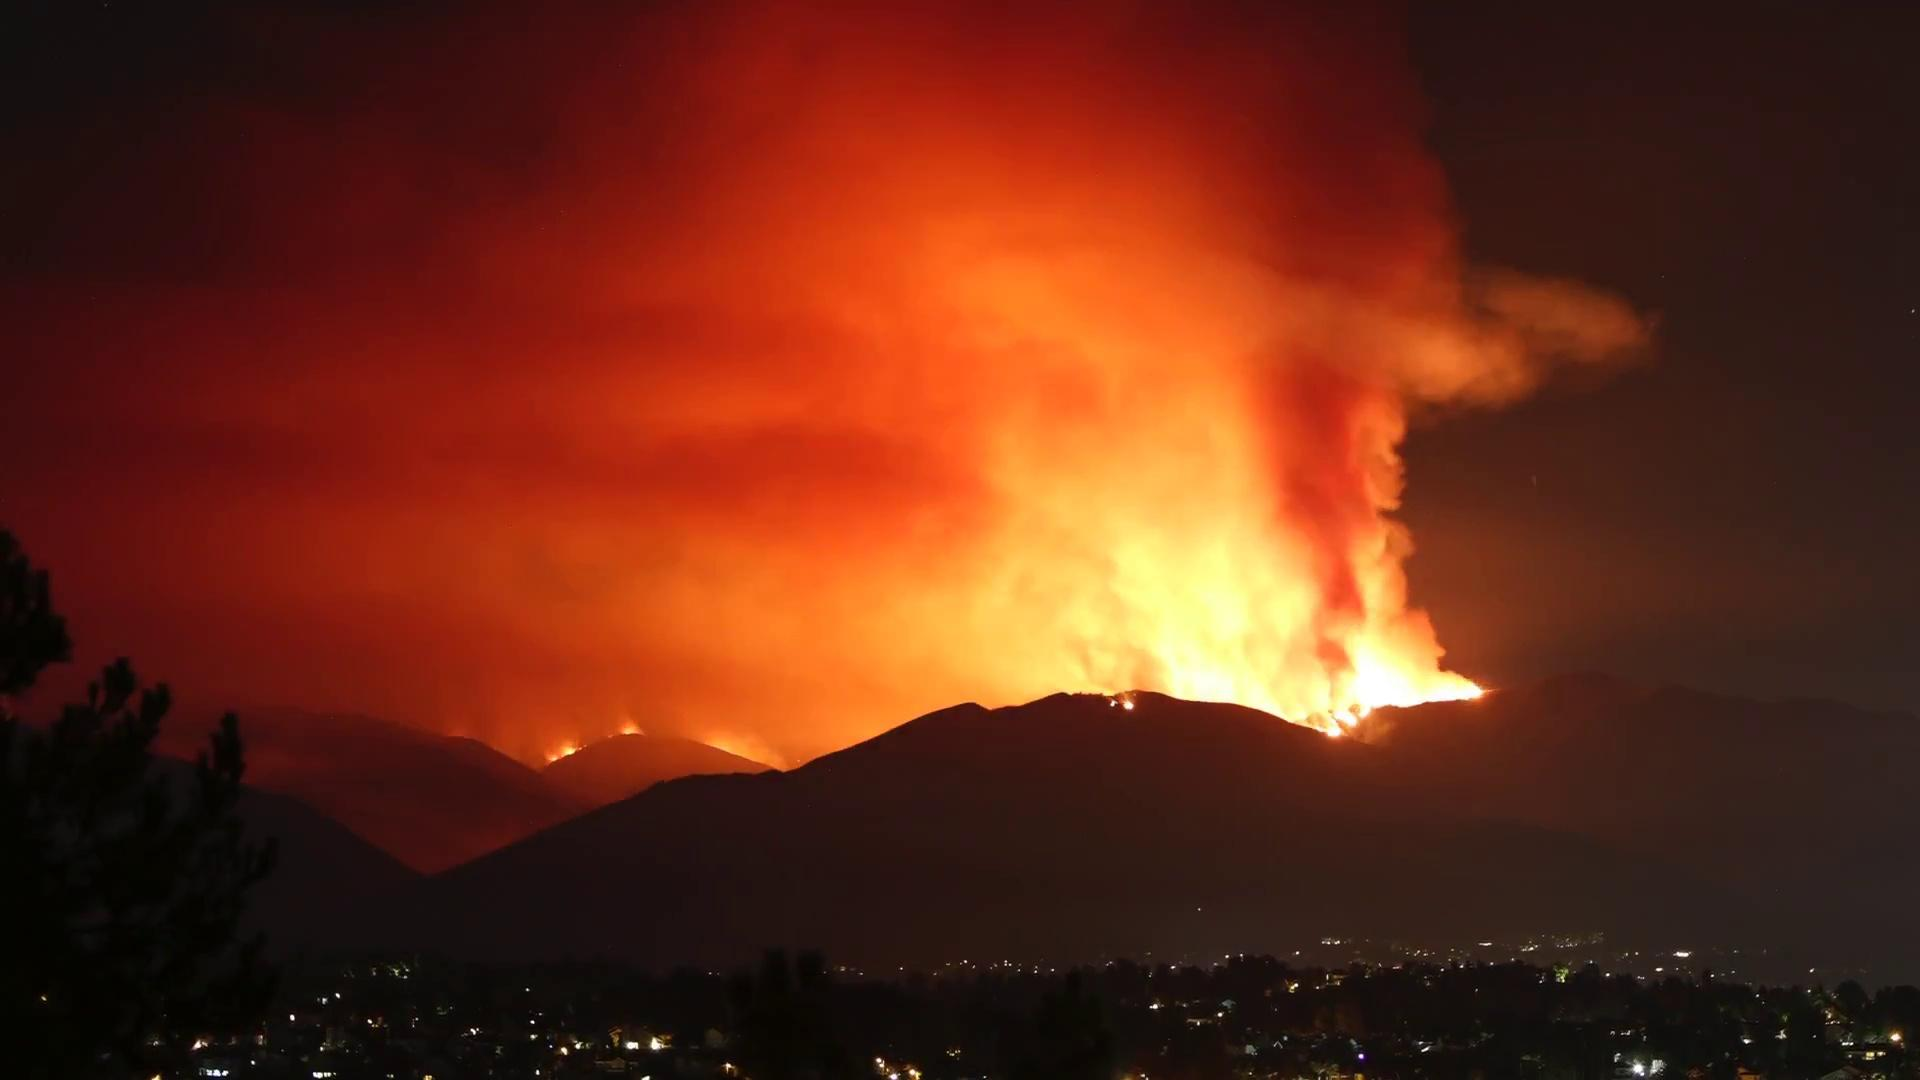fire: (1158, 650, 1265, 708), (1350, 655, 1440, 709)
